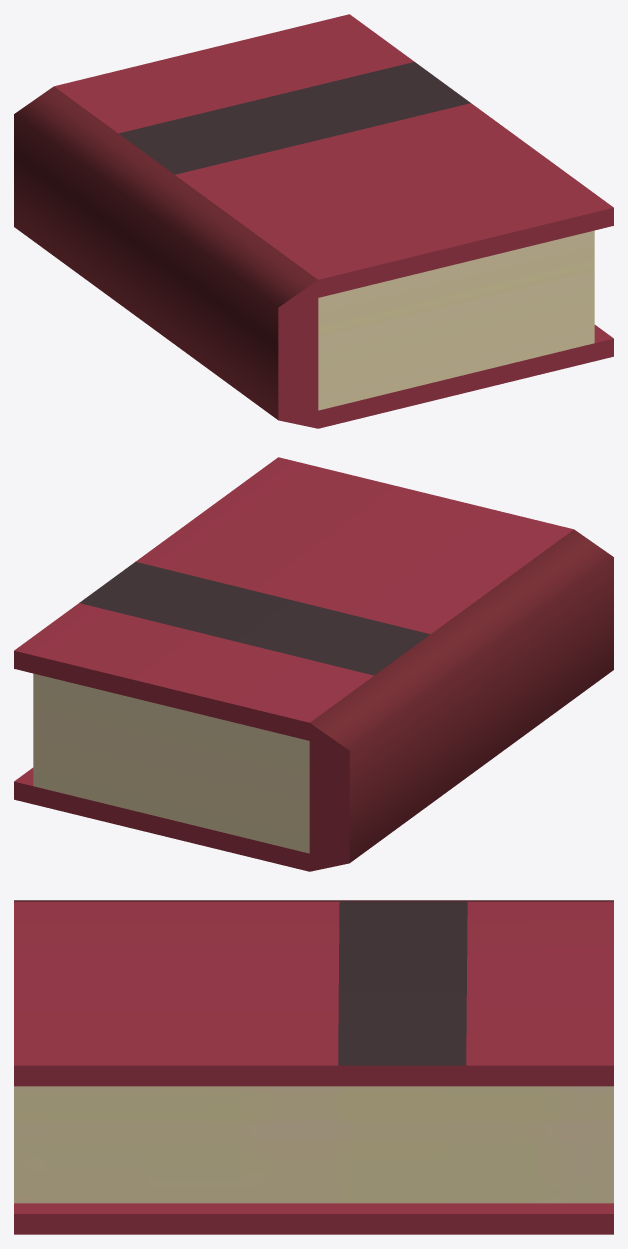
The model's file is book.fbx.
The picture shows the model from 3 angles, top to bottom: view 1: azimuth 30°, elevation 25°; view 2: azimuth 150°, elevation 25°; view 3: azimuth 270°, elevation 25°; orthographic projection. The views are drawn at different scales.
Visible parts, largest first — view 1: pCube1; view 2: pCube1; view 3: pCube1.
Part boxes in pixels (bbox=[...]): pCube1: bbox=[14, 14, 613, 428]; pCube1: bbox=[14, 457, 613, 871]; pCube1: bbox=[14, 900, 613, 1234].
Bounding box in the file's own units: 8.42 × 3.57 × 11.48.
